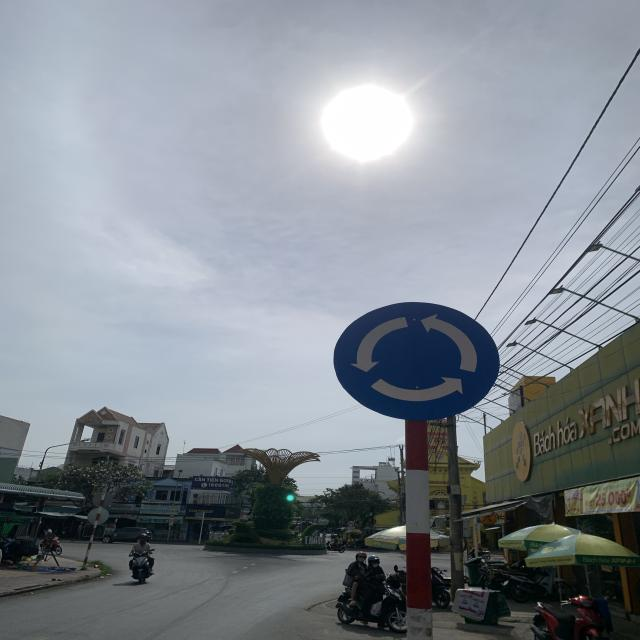Xe_Bus: (333, 302, 500, 422)
